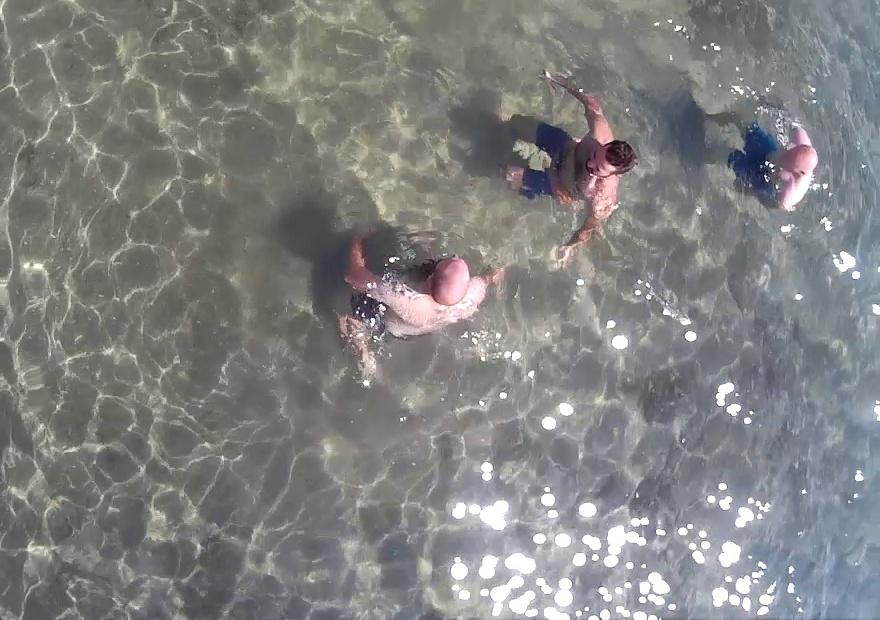human: (321, 212, 504, 376), (501, 50, 638, 260), (703, 77, 831, 234)
